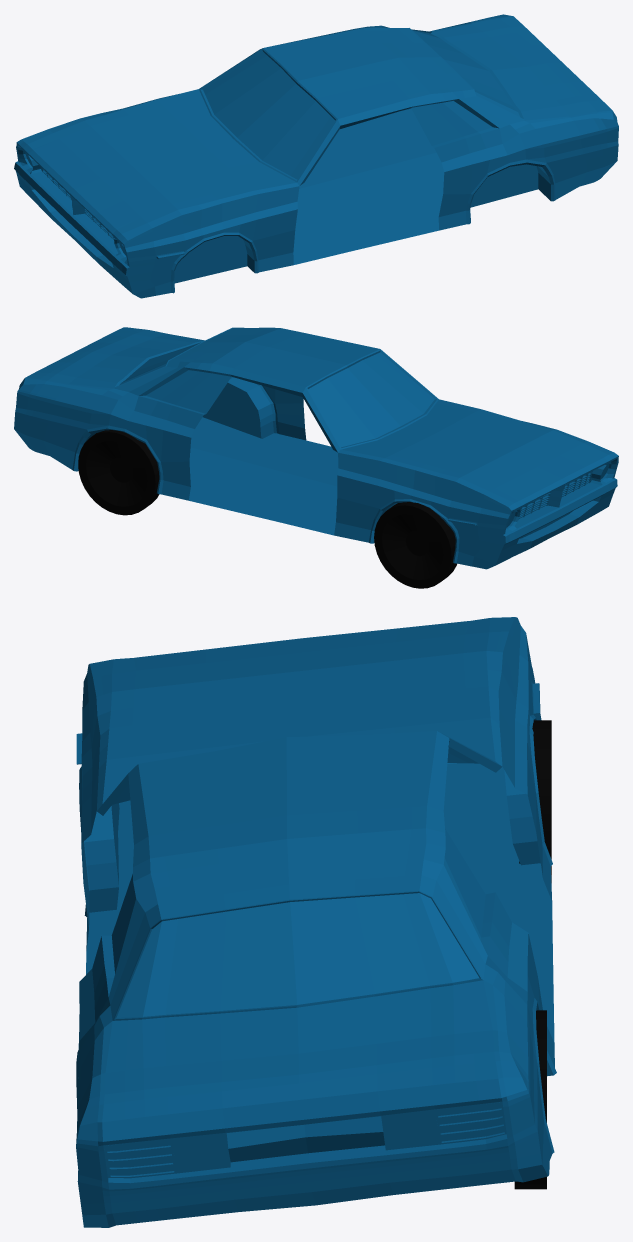
The model's file is CarCrash_4.fbx.
3 views of the same model, one above another, from view 1: azimuth 30°, elevation 25°; view 2: azimuth 150°, elevation 25°; view 3: azimuth 270°, elevation 25° (orthographic). The views are drawn at different scales.
Parts seen in each view (by area): view 1: Cube; view 2: Cube, Cylinder, Cylinder.001, Cube.002; view 3: Cube, Cube.003, Cylinder, Cylinder.001.
Part boxes in pixels (x1,y1,x2,y2): Cube: [14, 14, 618, 298]; Cube: [14, 327, 618, 569]; Cylinder: [374, 502, 456, 588]; Cylinder.001: [78, 430, 159, 515]; Cube.002: [518, 471, 592, 519]; Cube: [76, 617, 556, 1227]; Cube.003: [104, 1102, 506, 1178]; Cylinder: [519, 720, 551, 882]; Cylinder.001: [514, 1010, 546, 1189].
Bounding box in the file's own units: 631 × 178 × 265.
